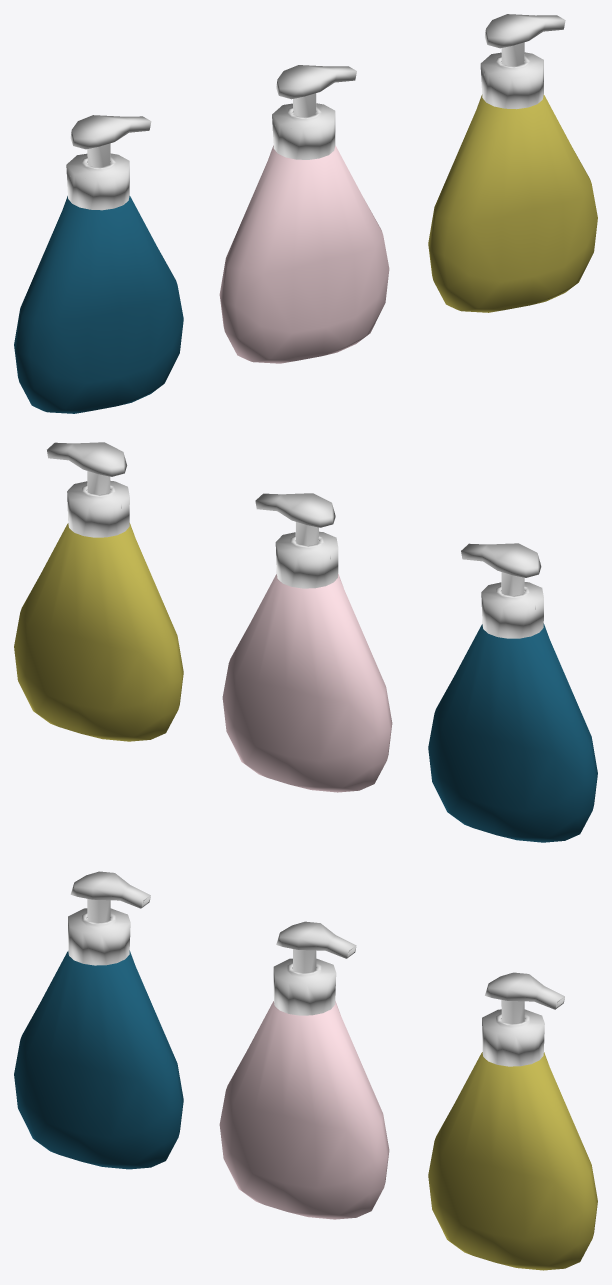
The model's file is handlotionlow.fbx.
The picture shows the model from 3 angles, top to bottom: view 1: azimuth 30°, elevation 25°; view 2: azimuth 150°, elevation 25°; view 3: azimuth 330°, elevation 25°; orthographic projection.
Parts seen in each view (by area): view 1: handlotionred, handlotionblue, handlotiongreen; view 2: handlotionred, handlotiongreen, handlotionblue; view 3: handlotionred, handlotionblue, handlotiongreen.
Part boxes in pixels (x1=…): handlotionred: x1=219, y1=65, x2=389, y2=363; handlotionblue: x1=14, y1=115, x2=183, y2=413; handlotiongreen: x1=428, y1=14, x2=597, y2=312; handlotionred: x1=222, y1=493, x2=392, y2=792; handlotiongreen: x1=14, y1=442, x2=183, y2=741; handlotionblue: x1=428, y1=543, x2=597, y2=842; handlotionred: x1=219, y1=921, x2=389, y2=1219; handlotionblue: x1=14, y1=871, x2=183, y2=1169; handlotiongreen: x1=428, y1=972, x2=597, y2=1270.
Size of the model in its own units: 35.65 by 16.01 by 4.54.
